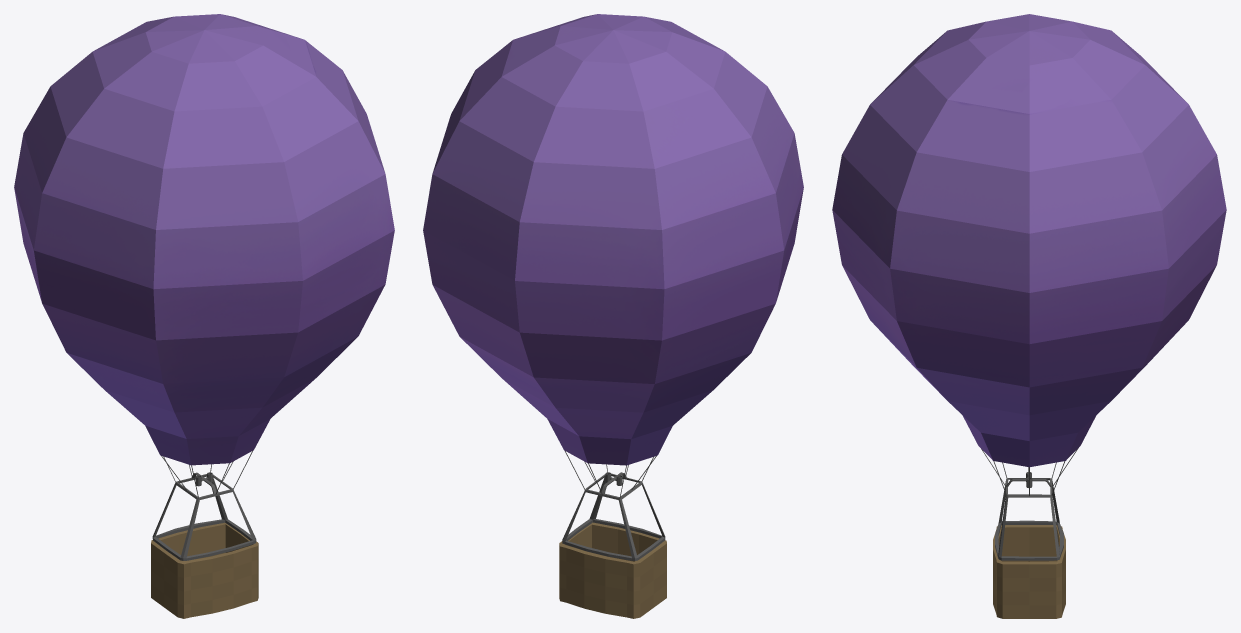
File: hot_air_balloon.fbx
The picture shows the model from 3 angles, left to right: view 1: azimuth 30°, elevation 25°; view 2: azimuth 150°, elevation 25°; view 3: azimuth 270°, elevation 25°; orthographic projection.
Parts seen in each view (by area): view 1: Balloon, Basket, Frame; view 2: Balloon, Basket, Frame; view 3: Balloon, Basket, Frame.
Part boxes in pixels (<box>): Balloon: <box>14,14,394,465</box>; Basket: <box>151,522,258,618</box>; Frame: <box>152,451,256,560</box>; Balloon: <box>423,14,803,465</box>; Basket: <box>559,522,666,618</box>; Frame: <box>562,451,665,560</box>; Balloon: <box>832,14,1226,467</box>; Basket: <box>993,525,1065,618</box>; Frame: <box>981,448,1078,560</box>.
Bounding box in the file's own units: 87.32 × 139 × 87.32.
